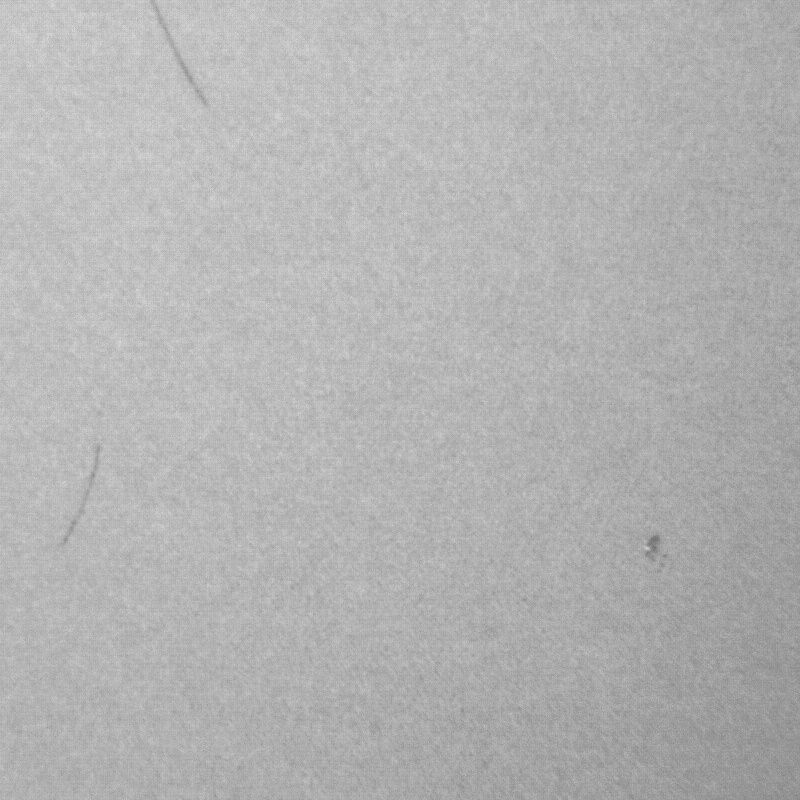defect: (153, 1, 211, 106), (59, 448, 101, 550), (645, 526, 665, 567)
